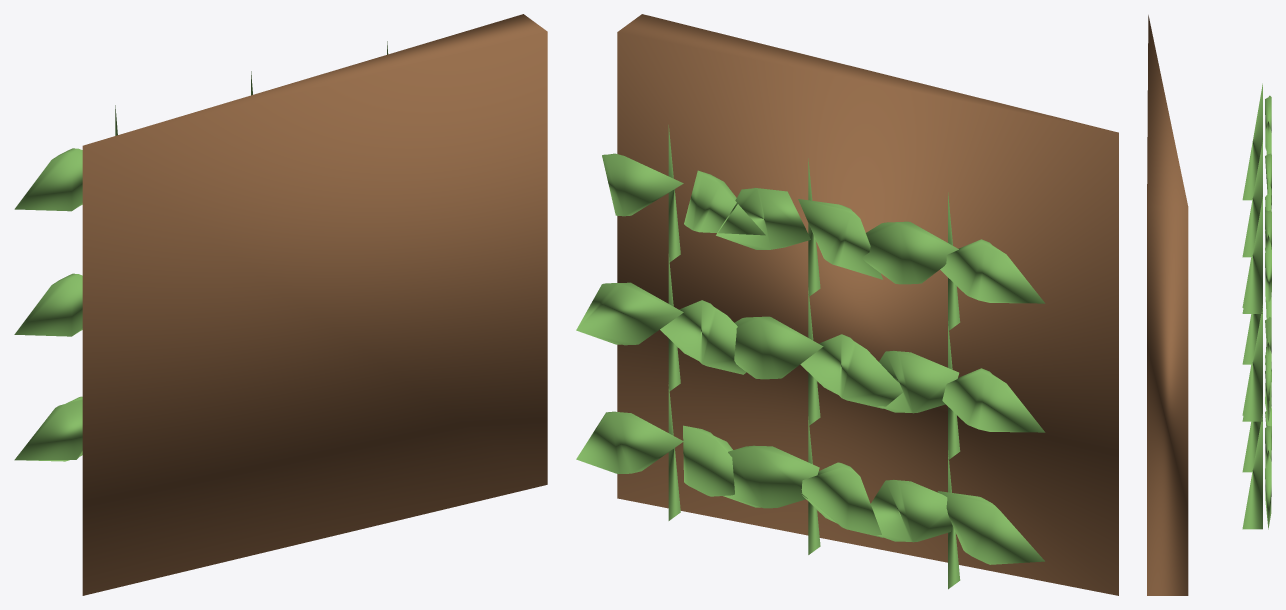
The model's file is corn_small.glb.
3 views of the same model, side by side, from view 1: azimuth 30°, elevation 25°; view 2: azimuth 150°, elevation 25°; view 3: azimuth 270°, elevation 25° (orthographic). The views are drawn at different scales.
Parts seen in each view (by area): view 1: Soil, Leaf.002, Leaf.004, Leaf; view 2: Soil, Leaf.008, Leaf.015, Leaf.007, Leaf, Leaf.013, Leaf.005, Leaf.002, Leaf.004, Leaf.001, Leaf.009, Leaf.014 (+11 smaller); view 3: Soil, Stem.006, Stem.007, Stem.008, Stem.005, Stem.002, Stem.003, Stem.004, Leaf.013, Leaf.015, Leaf.017, Leaf.010 (+4 smaller).
Part boxes in pixels (x1=…): Soil: x1=82, y1=14, x2=547, y2=595; Leaf.002: x1=14, y1=273, x2=82, y2=336; Leaf.004: x1=14, y1=148, x2=82, y2=211; Leaf: x1=14, y1=396, x2=82, y2=461; Soil: x1=617, y1=14, x2=1118, y2=595; Leaf.008: x1=800, y1=334, x2=902, y2=408; Leaf.015: x1=576, y1=282, x2=683, y2=345; Leaf.007: x1=723, y1=445, x2=819, y2=508; Leaf: x1=938, y1=491, x2=1044, y2=564; Leaf.013: x1=576, y1=411, x2=683, y2=473; Leaf.005: x1=862, y1=221, x2=958, y2=284; Leaf.002: x1=942, y1=368, x2=1045, y2=432; Leaf.004: x1=940, y1=239, x2=1045, y2=303; Leaf.001: x1=870, y1=479, x2=952, y2=542; Leaf.009: x1=734, y1=316, x2=823, y2=379; Leaf.014: x1=660, y1=300, x2=746, y2=374; Soil: x1=1147, y1=15, x2=1188, y2=595; Stem.006: x1=1242, y1=414, x2=1262, y2=529; Stem.007: x1=1242, y1=305, x2=1262, y2=421; Stem.008: x1=1242, y1=197, x2=1262, y2=313; Stem.005: x1=1242, y1=140, x2=1262, y2=257; Stem.002: x1=1242, y1=83, x2=1262, y2=200; Stem.003: x1=1242, y1=421, x2=1260, y2=472; Stem.004: x1=1242, y1=314, x2=1260, y2=364; Leaf.013: x1=1265, y1=450, x2=1271, y2=529; Leaf.015: x1=1265, y1=342, x2=1271, y2=421; Leaf.017: x1=1265, y1=234, x2=1271, y2=301; Leaf.010: x1=1265, y1=153, x2=1271, y2=208.
Size of the model in its own units: 1.16 by 1.08 by 0.316.
